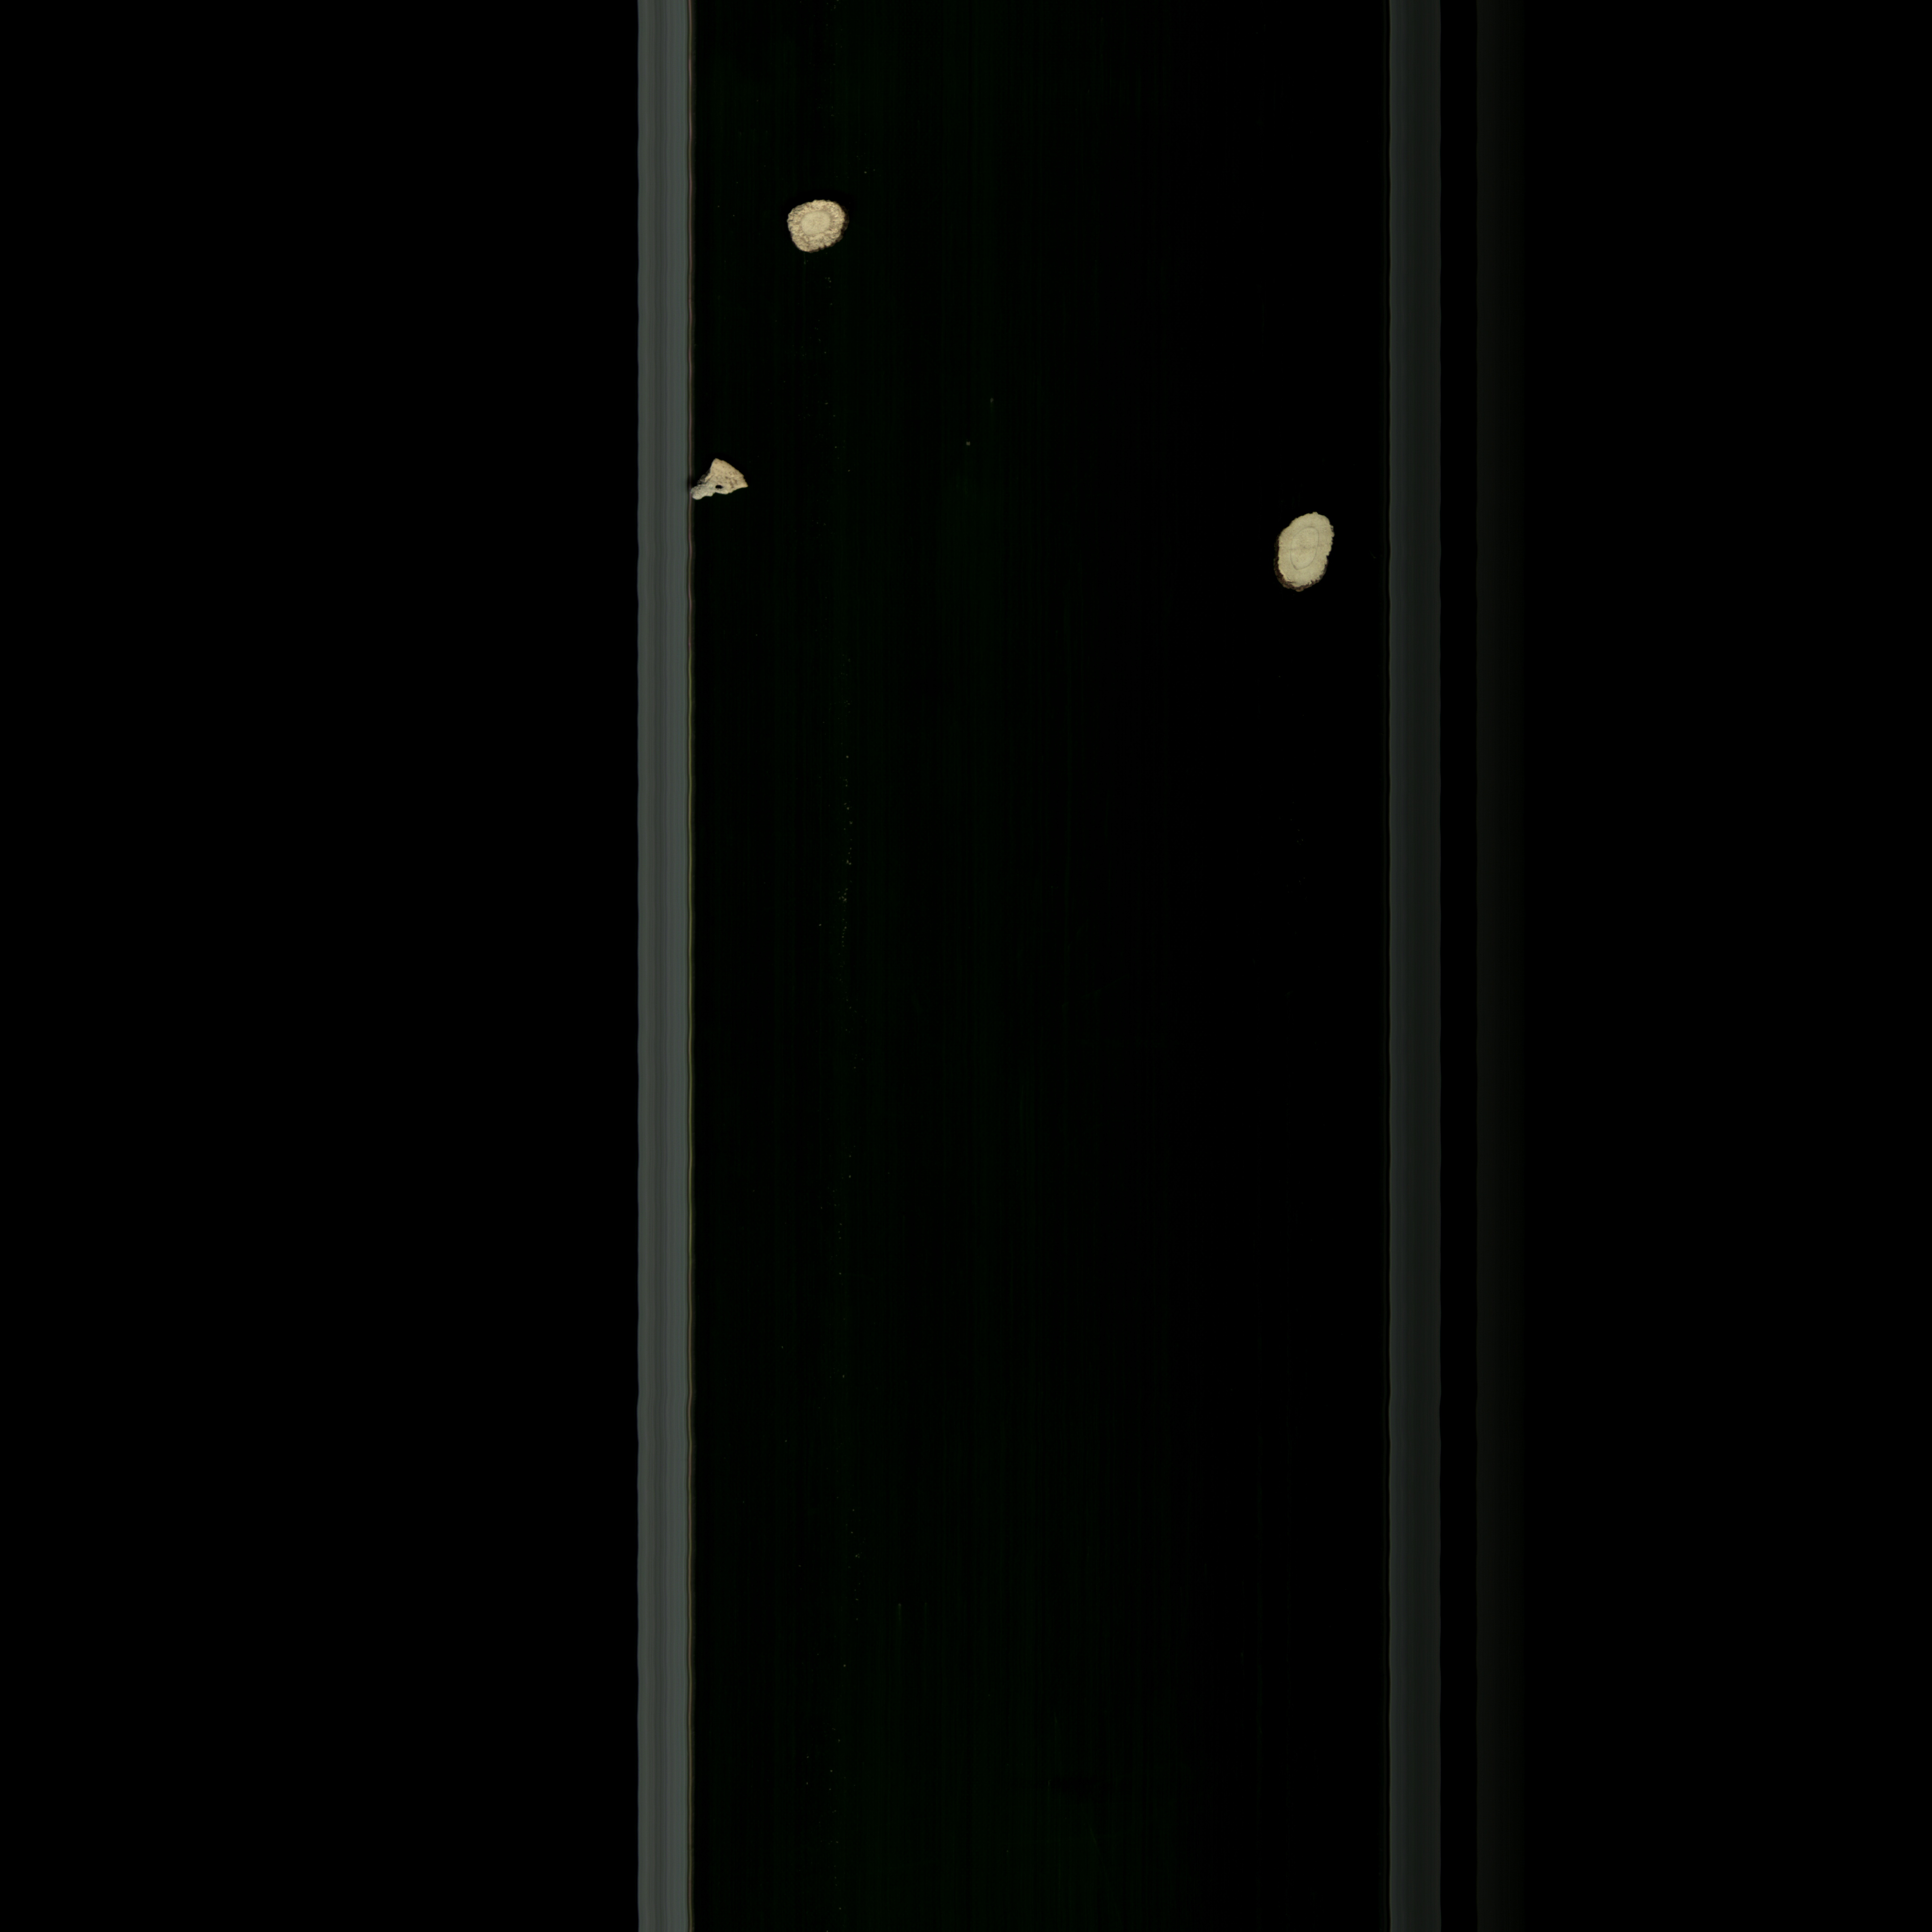distortion: (1260, 495, 1352, 614)
dreg: (679, 449, 757, 513)
